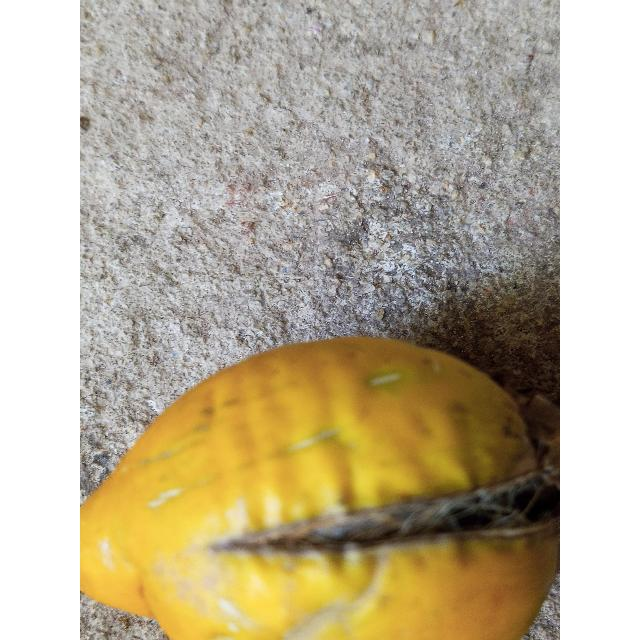damaged: (80, 336, 560, 640)
